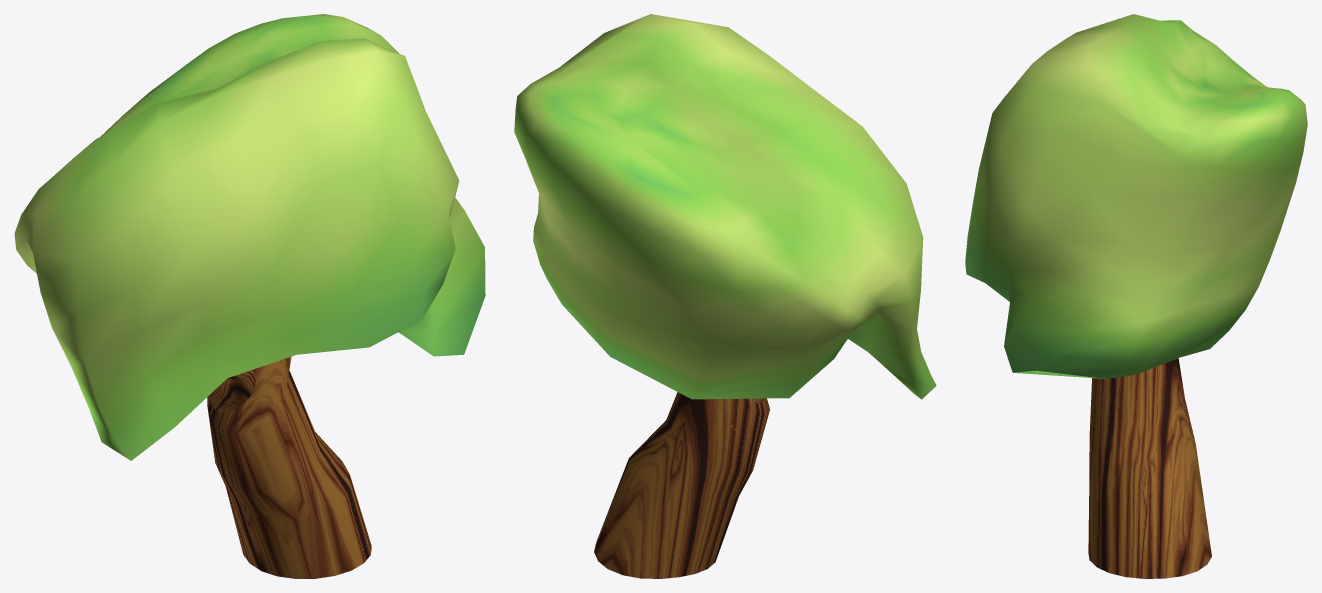
Rendered from tree2.fbx.
The picture shows the model from 3 angles, left to right: view 1: azimuth 30°, elevation 25°; view 2: azimuth 150°, elevation 25°; view 3: azimuth 270°, elevation 25°; orthographic projection.
Visible parts, largest first — view 1: pSphere5; view 2: pSphere5; view 3: pSphere5.
Boxes of the visible parts, left/top/right/bottom form: pSphere5: left=14, top=14, right=485, bottom=578; pSphere5: left=514, top=14, right=936, bottom=578; pSphere5: left=965, top=14, right=1307, bottom=578.
Size of the model in its own units: 7.36 by 8.98 by 5.48.
